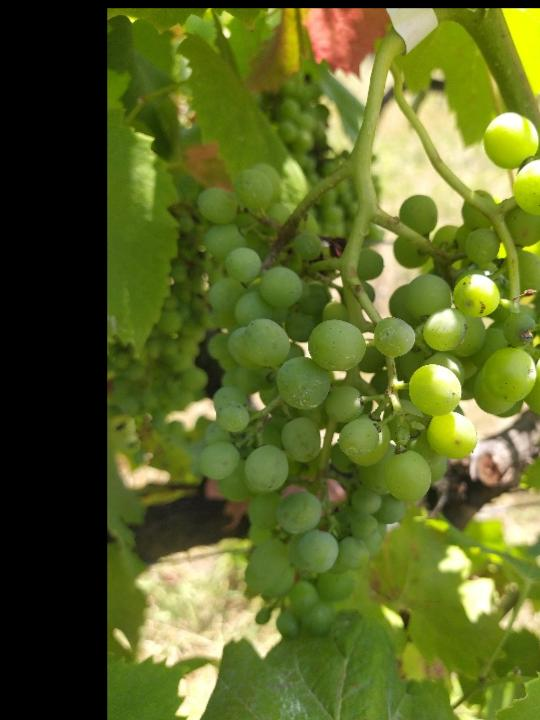grape: (192, 106, 540, 642)
